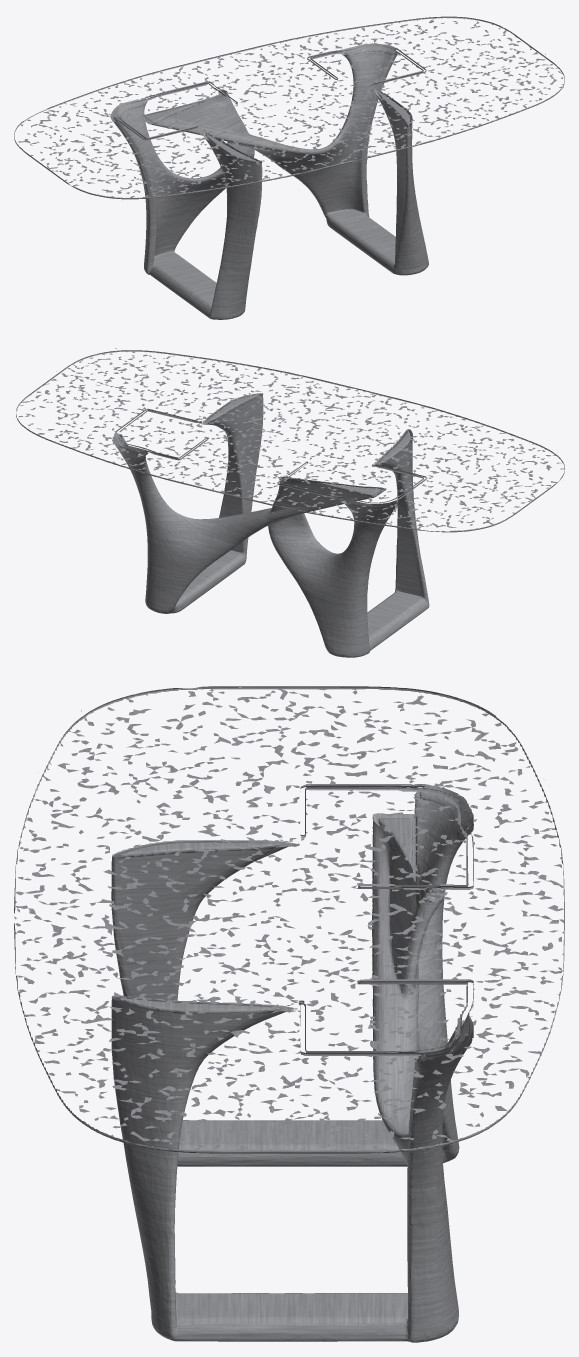
Rendered from blackgranitedining.glb.
The picture shows the model from 3 angles, top to bottom: view 1: azimuth 30°, elevation 25°; view 2: azimuth 150°, elevation 25°; view 3: azimuth 270°, elevation 25°; orthographic projection. The views are drawn at different scales.
Parts seen in each view (by area): view 1: geometry_0; view 2: geometry_0; view 3: geometry_0.
Part boxes in pixels (x1,y1,x2,y2): geometry_0: [14, 16, 564, 319]; geometry_0: [16, 348, 564, 657]; geometry_0: [14, 686, 564, 1342].
Size of the model in its own units: 0.9998 by 0.3246 by 0.4988.
1 material, 1 textured.
